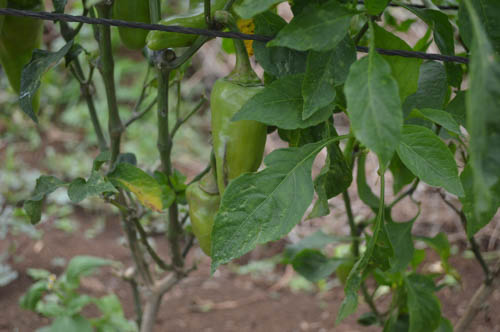ChiliPepper: (210, 82, 267, 207), (184, 186, 228, 260), (150, 13, 214, 51)
